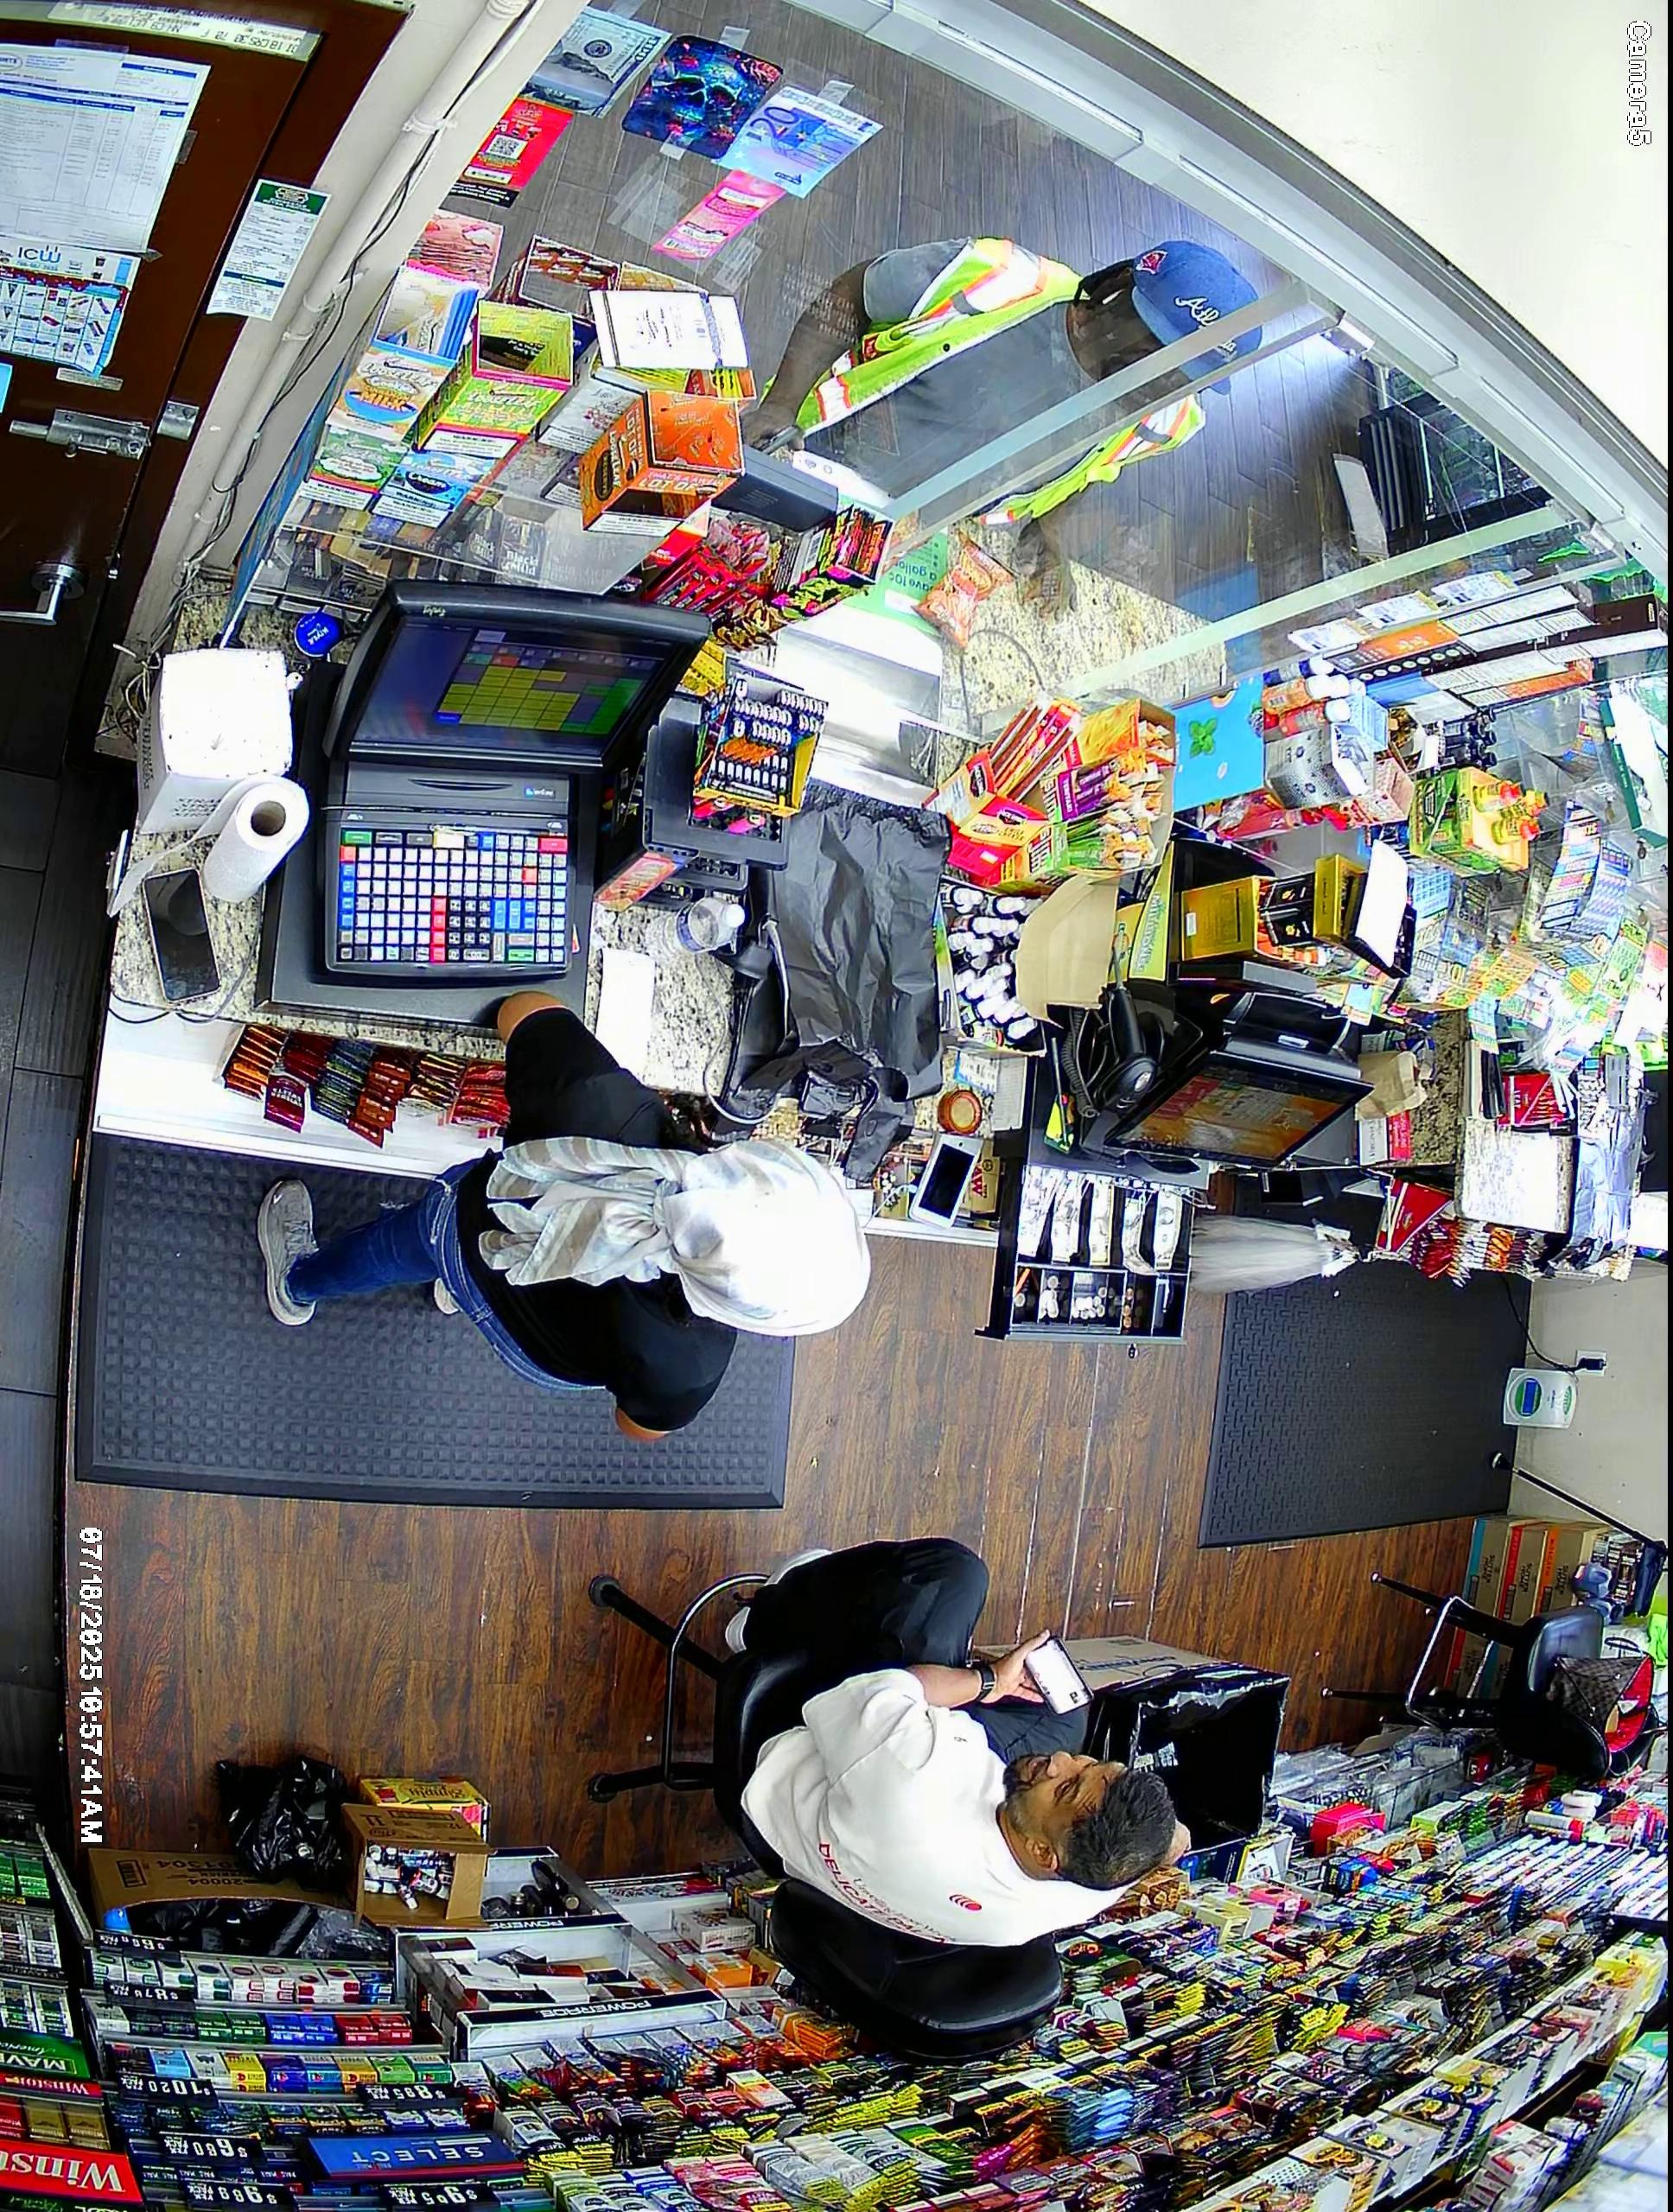phone: (1014, 1630, 1098, 1724), (745, 418, 784, 459)
